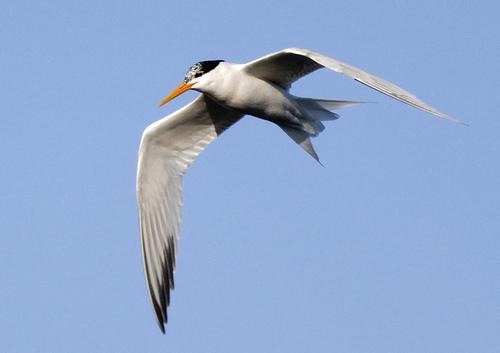bird: (135, 48, 471, 334)
